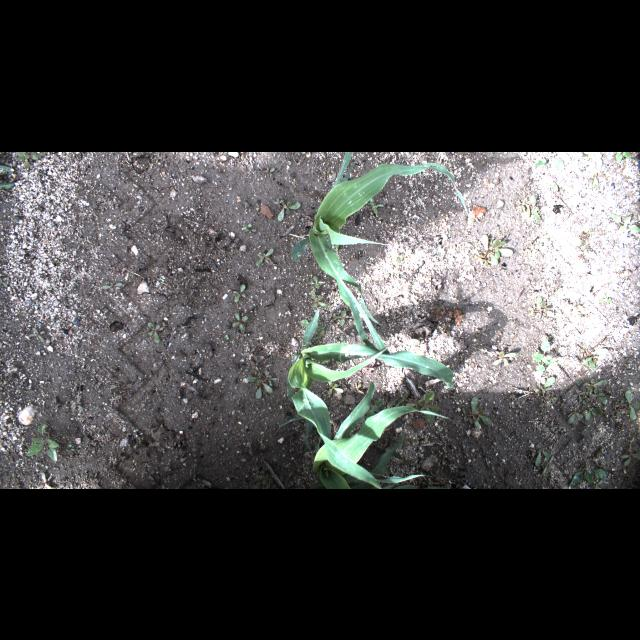crop: (290, 151, 468, 369), (274, 308, 453, 488), (310, 380, 448, 488), (384, 480, 396, 488), (394, 486, 418, 488), (426, 487, 442, 488)
weed: (473, 232, 513, 266), (26, 422, 59, 462), (400, 391, 440, 424), (568, 459, 608, 486), (531, 337, 557, 373), (461, 397, 491, 428), (247, 369, 279, 398), (516, 194, 542, 220), (528, 296, 554, 320), (619, 390, 639, 420), (575, 378, 607, 396), (612, 214, 640, 234), (534, 152, 564, 170), (584, 348, 608, 370), (16, 152, 46, 168), (589, 158, 605, 188), (488, 350, 516, 366), (146, 322, 166, 342), (589, 384, 609, 404), (532, 446, 550, 466), (534, 376, 556, 392), (621, 448, 639, 467), (255, 247, 273, 265), (310, 289, 328, 307), (384, 440, 402, 458), (232, 312, 248, 330), (366, 400, 384, 416), (369, 194, 383, 214), (579, 227, 593, 247), (36, 472, 52, 488), (567, 408, 583, 424), (101, 280, 122, 292), (232, 284, 246, 302), (612, 151, 632, 163), (584, 406, 602, 419), (30, 326, 44, 342), (334, 309, 348, 325), (327, 380, 343, 394), (308, 276, 326, 288), (543, 456, 555, 474), (284, 200, 300, 213), (300, 320, 326, 328), (252, 476, 272, 486), (579, 391, 593, 405), (548, 286, 564, 298), (394, 438, 414, 447), (548, 173, 558, 191), (316, 357, 330, 369), (278, 194, 284, 220), (542, 421, 554, 434), (594, 476, 606, 488), (546, 392, 558, 404), (612, 404, 624, 416), (572, 389, 584, 401), (0, 164, 14, 174), (72, 398, 82, 412), (142, 470, 156, 480), (470, 212, 484, 222), (52, 397, 62, 409), (244, 346, 256, 356), (250, 360, 260, 372), (312, 328, 324, 338), (474, 326, 486, 336), (526, 244, 538, 254), (539, 403, 551, 413), (580, 342, 592, 352), (573, 306, 583, 316), (614, 399, 628, 406), (356, 381, 364, 393), (550, 426, 558, 438), (1, 182, 16, 188), (274, 197, 284, 206), (246, 441, 252, 455), (0, 277, 8, 287), (266, 165, 274, 175), (455, 478, 463, 488), (396, 398, 404, 408), (570, 451, 578, 461), (541, 456, 547, 468), (68, 443, 76, 451), (263, 362, 271, 370), (322, 169, 330, 177), (238, 367, 248, 373), (290, 186, 296, 196), (396, 253, 402, 263), (330, 243, 338, 250), (132, 182, 138, 190), (244, 223, 252, 229), (245, 228, 257, 232), (386, 401, 394, 407), (292, 178, 298, 185), (600, 298, 610, 302), (74, 385, 78, 391), (225, 333, 229, 339), (428, 478, 430, 484), (302, 151, 304, 153)
